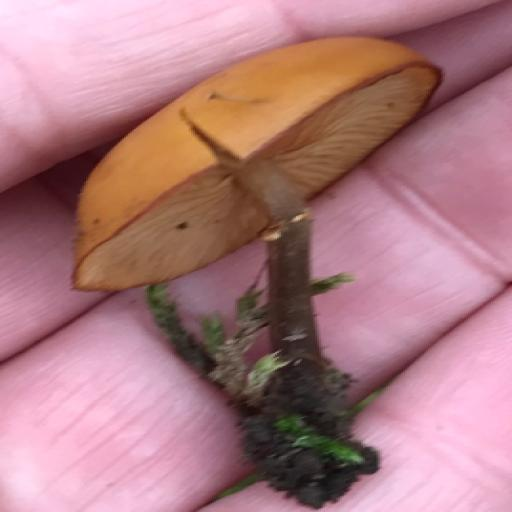mushroom: (54, 28, 452, 408)
